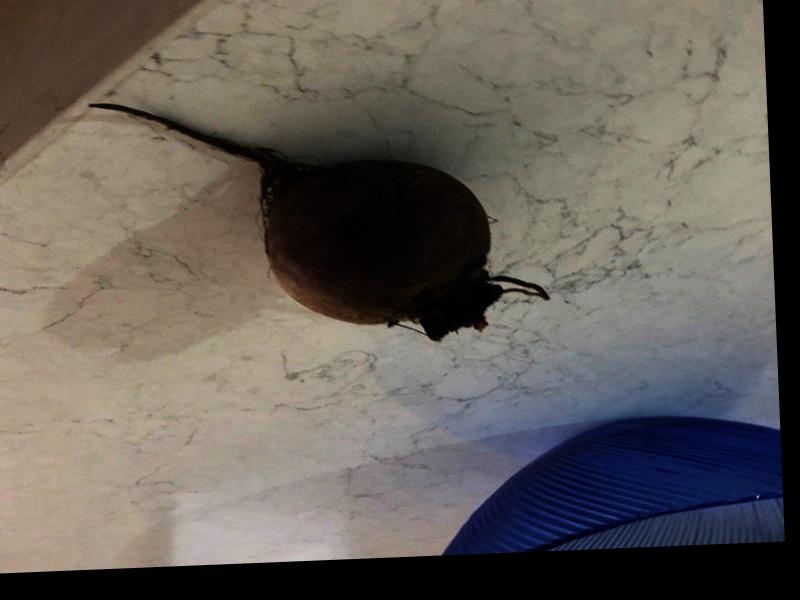Beet: (90, 83, 548, 353)
